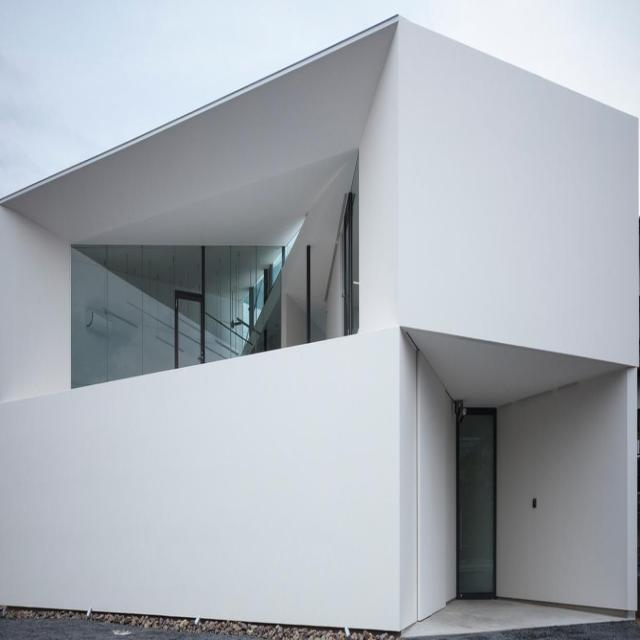door: (459, 404, 498, 600), (175, 287, 205, 369)
window: (71, 243, 284, 389)
